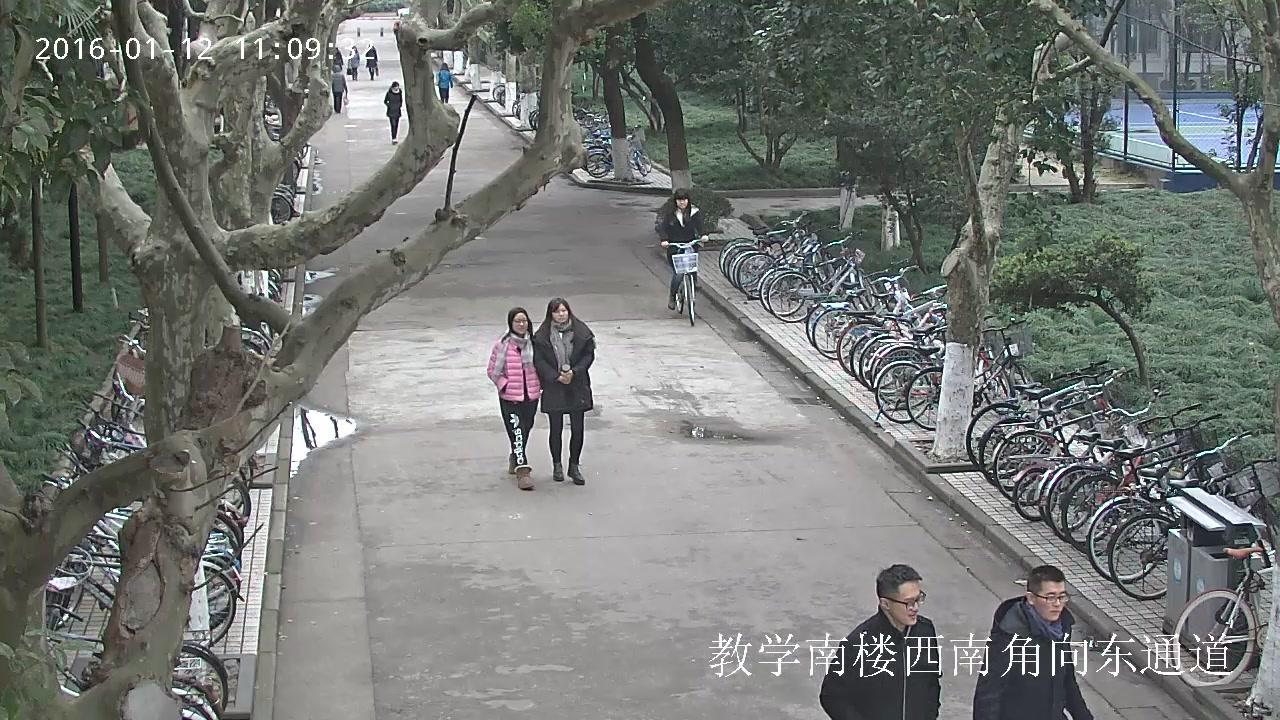person: (819, 562, 942, 720), (973, 565, 1095, 720), (531, 297, 595, 484), (486, 307, 541, 490), (658, 189, 708, 326), (658, 189, 708, 311), (383, 80, 403, 145), (330, 64, 349, 113), (434, 62, 454, 104), (364, 39, 378, 81), (346, 45, 360, 81), (332, 47, 342, 73), (332, 47, 342, 65)
